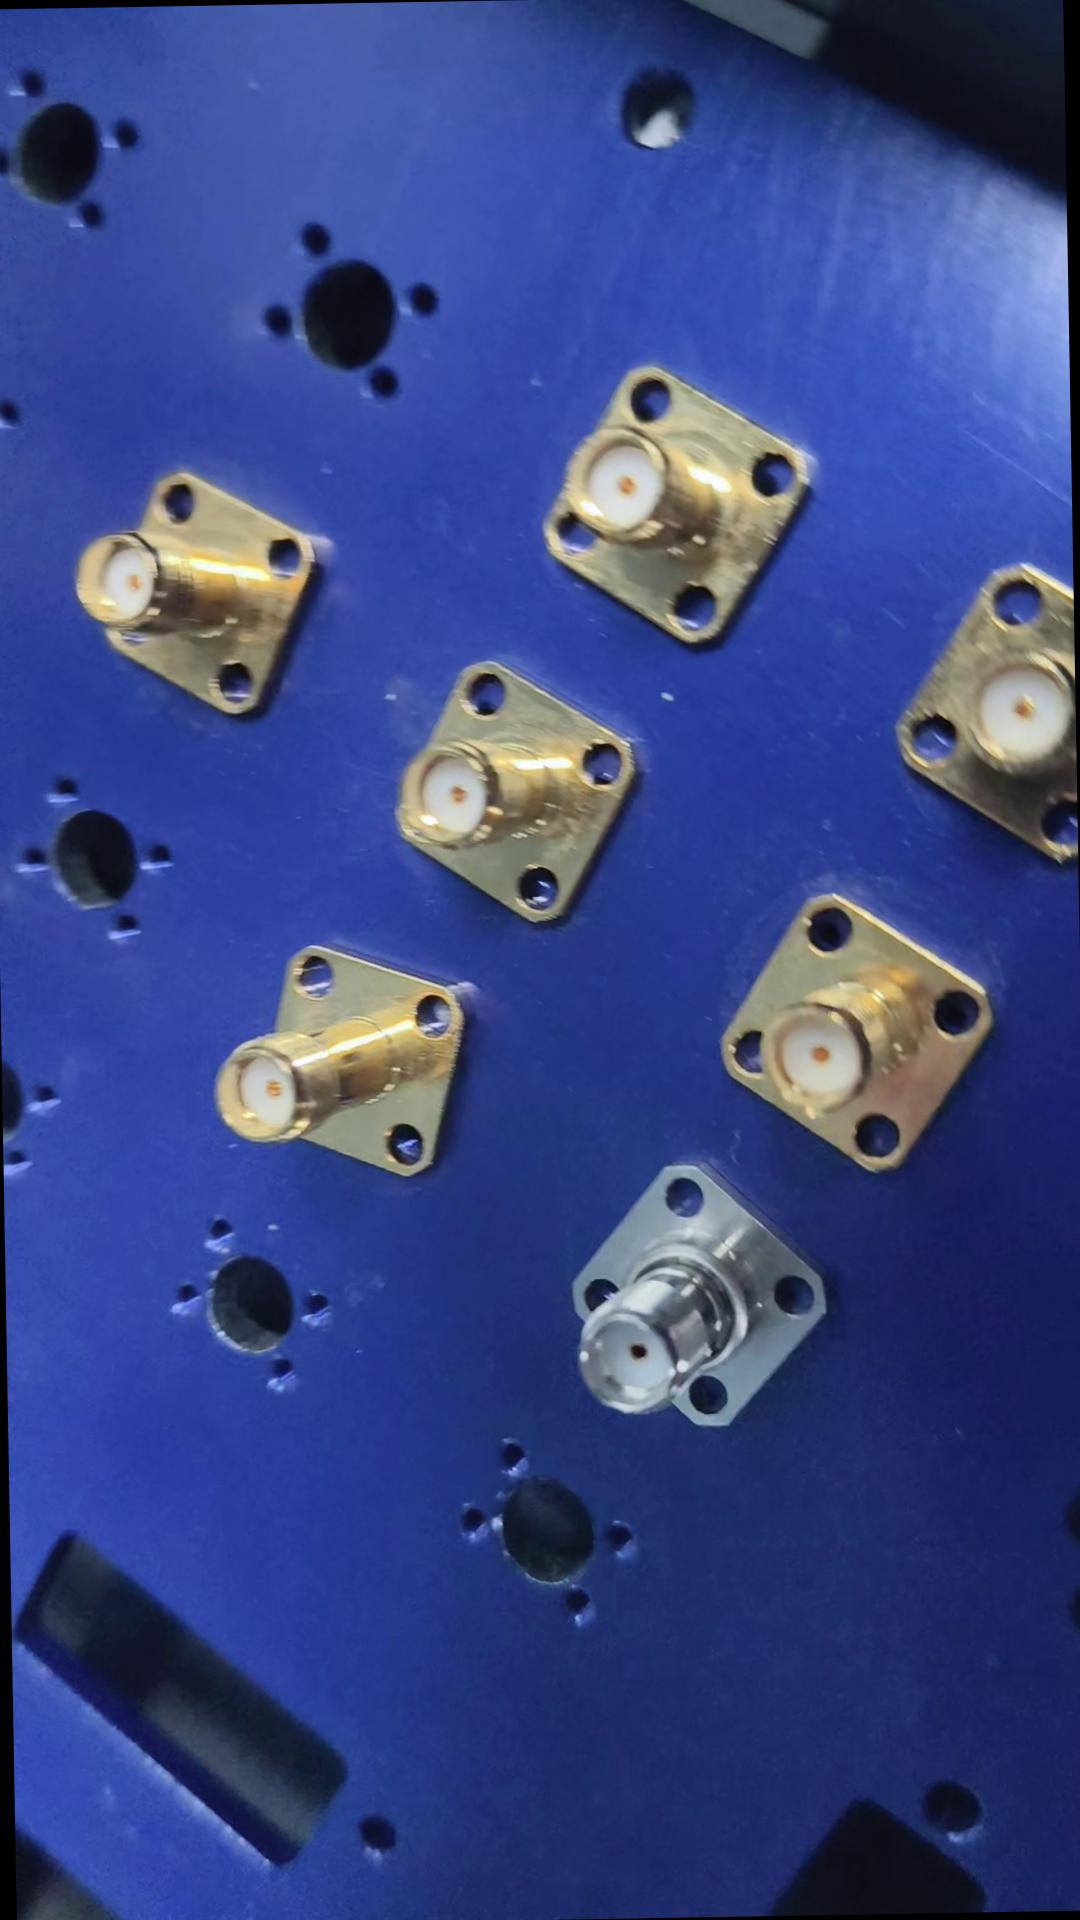SMA: (707, 876, 990, 1178), (556, 1145, 825, 1443), (541, 359, 803, 651), (382, 651, 626, 932), (74, 467, 324, 731), (204, 943, 468, 1187)
